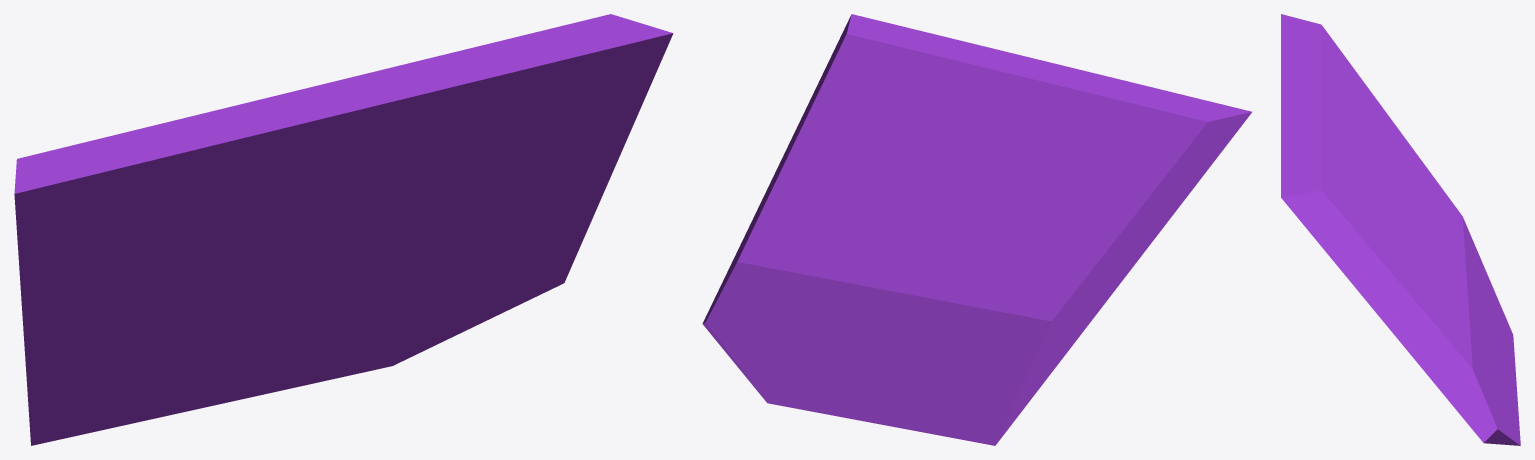
Rendered from Window_112_2_chunks.fbx.
The picture shows the model from 3 angles, left to right: view 1: azimuth 30°, elevation 25°; view 2: azimuth 150°, elevation 25°; view 3: azimuth 270°, elevation 25°; orthographic projection. The views are drawn at different scales.
Parts seen in each view (by area): view 1: Window_112_2_1, Window_112_2_2, Window_112_2_0, Window_112_2_9, Window_112_2_5, Window_112_2_4, Window_112_2_6, Window_112_2_7, Window_112_2_3, Window_112_2_8; view 2: Window_112_2_0, Window_112_2_2, Window_112_2_1, Window_112_2_4, Window_112_2_7, Window_112_2_5, Window_112_2_9, Window_112_2_8, Window_112_2_6; view 3: Window_112_2_2, Window_112_2_1, Window_112_2_0, Window_112_2_7, Window_112_2_9, Window_112_2_4, Window_112_2_5, Window_112_2_8.
Part boxes in pixels (x1,y1,x2,y2): Window_112_2_1: [200, 183, 607, 408]; Window_112_2_2: [375, 14, 673, 233]; Window_112_2_0: [24, 269, 311, 445]; Window_112_2_9: [167, 69, 461, 179]; Window_112_2_5: [234, 88, 459, 289]; Window_112_2_4: [18, 234, 222, 344]; Window_112_2_6: [15, 158, 246, 257]; Window_112_2_7: [14, 112, 209, 207]; Window_112_2_3: [183, 203, 273, 292]; Window_112_2_8: [192, 135, 382, 231]; Window_112_2_0: [869, 214, 1098, 445]; Window_112_2_2: [756, 14, 983, 243]; Window_112_2_1: [702, 201, 888, 425]; Window_112_2_4: [985, 176, 1186, 311]; Window_112_2_7: [1058, 89, 1252, 187]; Window_112_2_5: [927, 70, 1023, 230]; Window_112_2_9: [980, 45, 1157, 116]; Window_112_2_8: [987, 82, 1066, 177]; Window_112_2_6: [1175, 131, 1237, 196]; Window_112_2_2: [1281, 127, 1446, 345]; Window_112_2_1: [1403, 276, 1520, 445]; Window_112_2_0: [1417, 161, 1516, 386]; Window_112_2_7: [1281, 14, 1374, 134]; Window_112_2_9: [1281, 57, 1339, 138]; Window_112_2_4: [1362, 80, 1421, 208]; Window_112_2_5: [1324, 130, 1418, 233]; Window_112_2_8: [1329, 109, 1380, 158].
Bounding box in the file's own units: 830 × 511 × 415.
